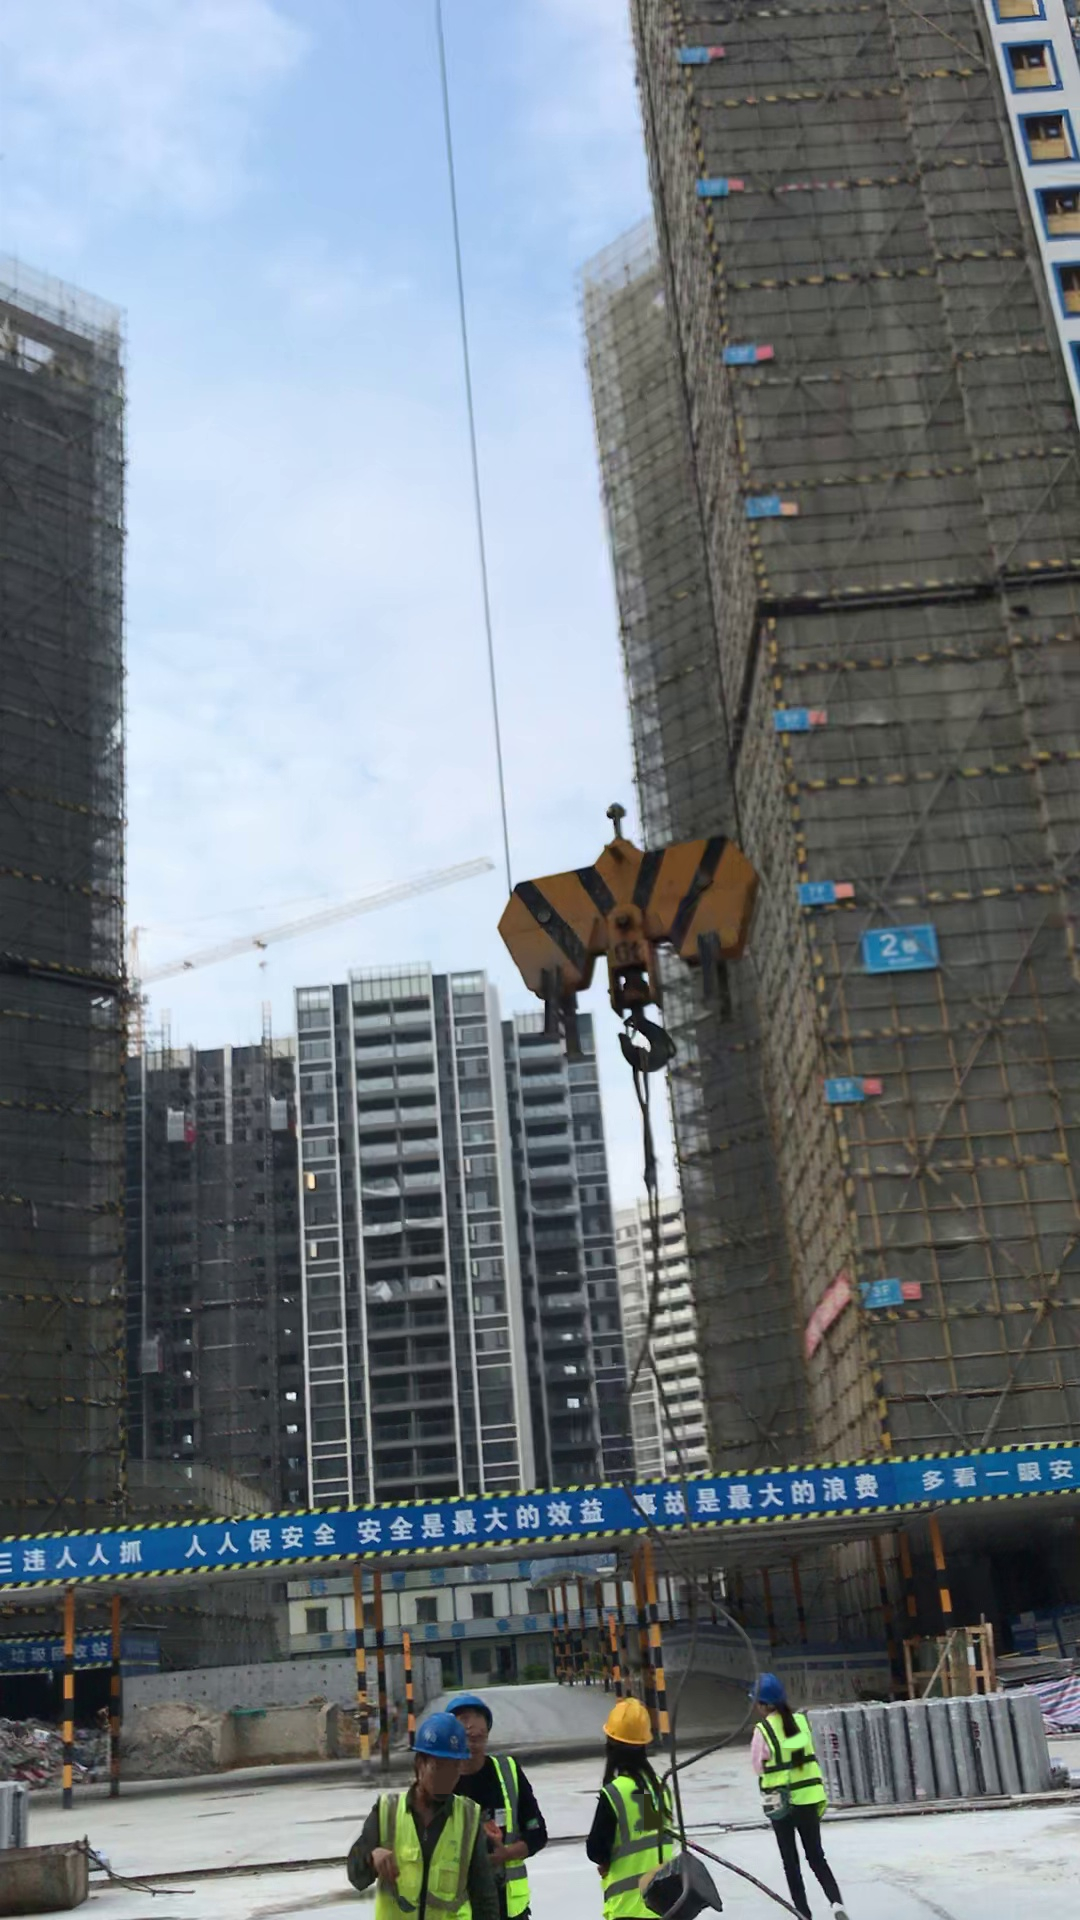helmet: (412, 1713, 469, 1762), (599, 1699, 651, 1749), (751, 1674, 783, 1708), (445, 1693, 492, 1713)
hook: (501, 832, 761, 1081)
hopper: (3, 1836, 88, 1915)
person: (344, 1710, 497, 1920), (738, 1671, 853, 1920), (448, 1686, 552, 1920), (586, 1693, 692, 1920)
slogan: (186, 1473, 880, 1556), (928, 1451, 1080, 1493), (3, 1545, 155, 1568)
vest: (372, 1793, 476, 1916), (598, 1773, 678, 1920), (482, 1752, 536, 1918), (753, 1711, 827, 1816)
